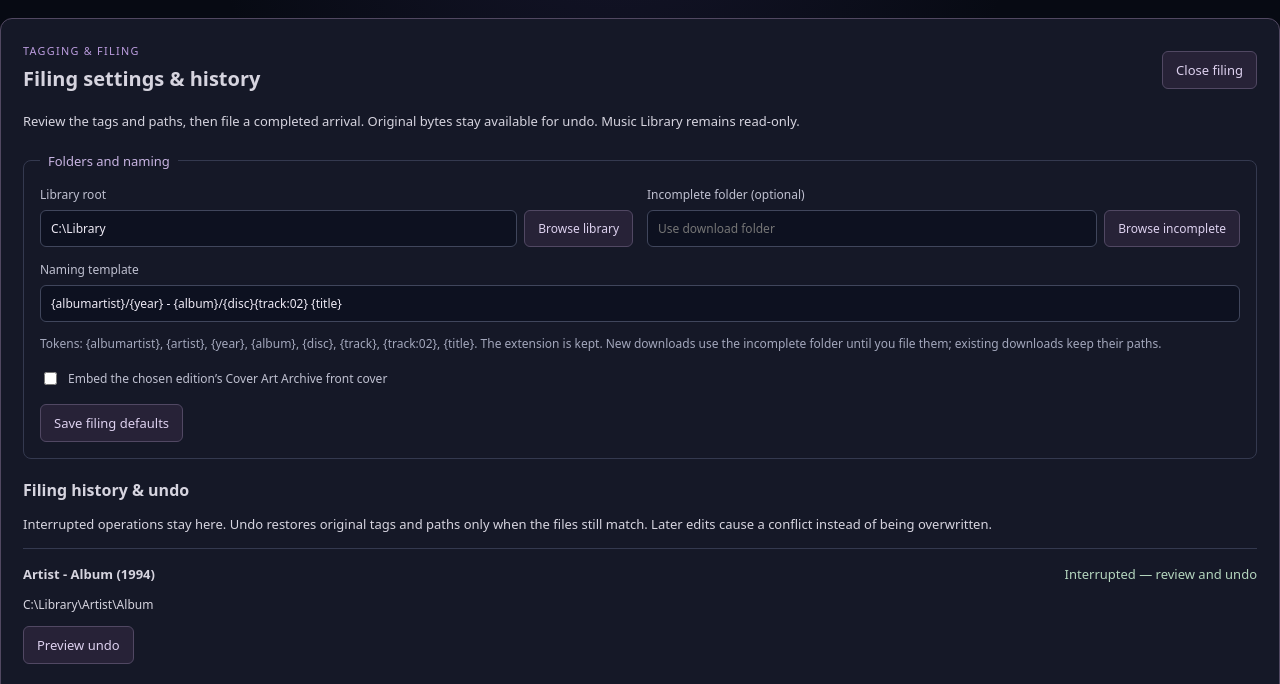
Test: keeps interrupted operations reviewable after remount and blocks unsafe undo
Expected: the text "Interrupted — review and undo" is shown, [1064,565,1257,583]
Click the button "Preview undo": [78, 645] box [23,626,134,664]
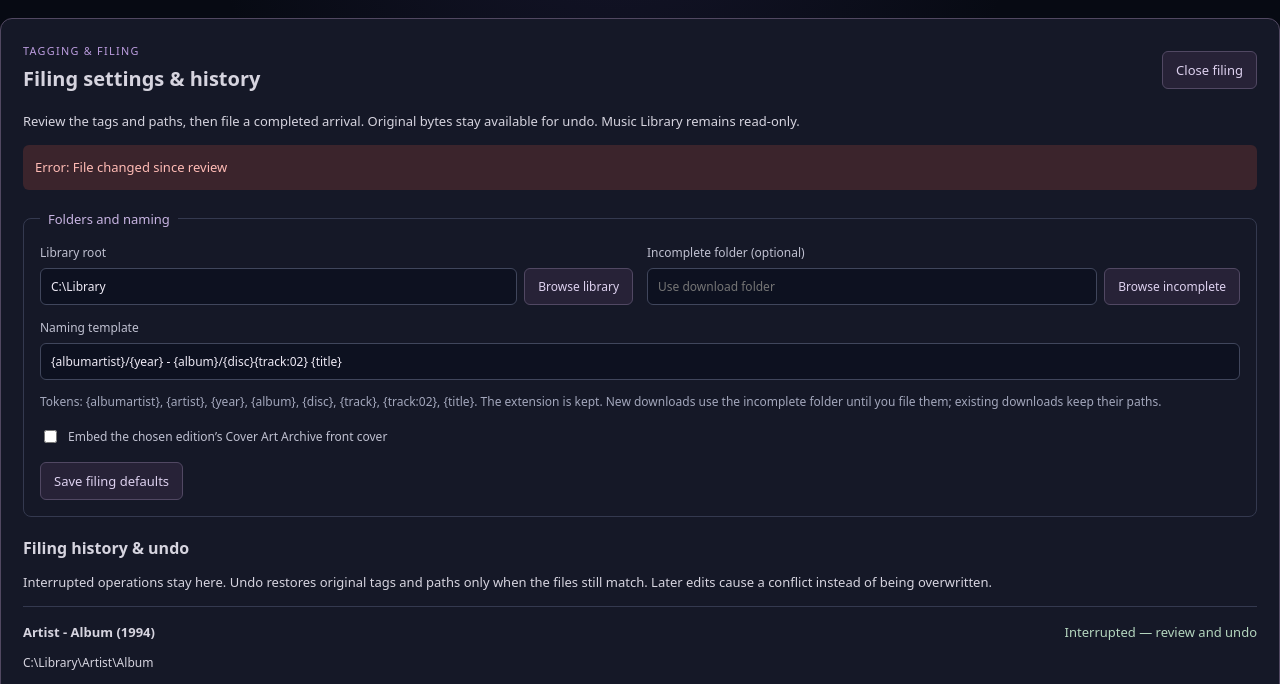
Expected: the message shows "File changed since review", [35,158,227,176]
